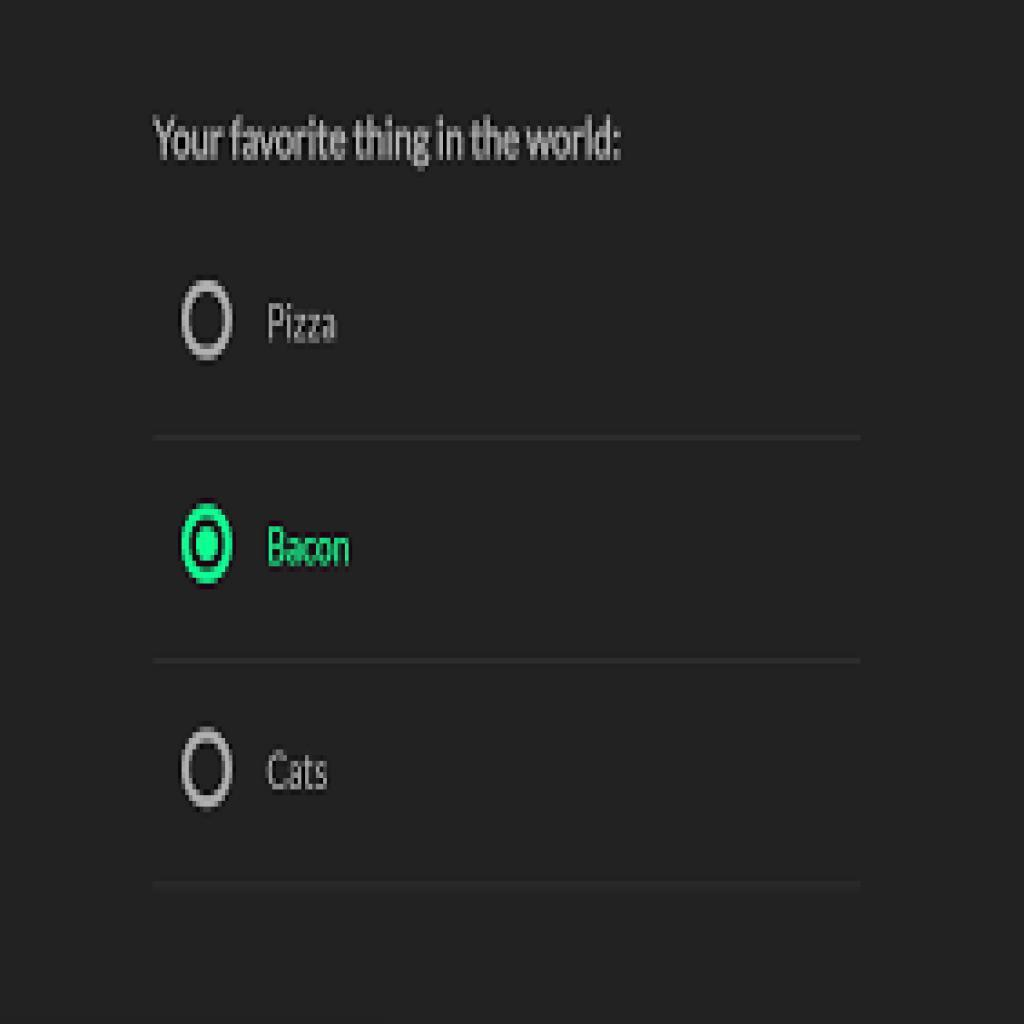radio: (179, 492, 233, 609), (180, 272, 238, 376), (176, 723, 238, 810)
